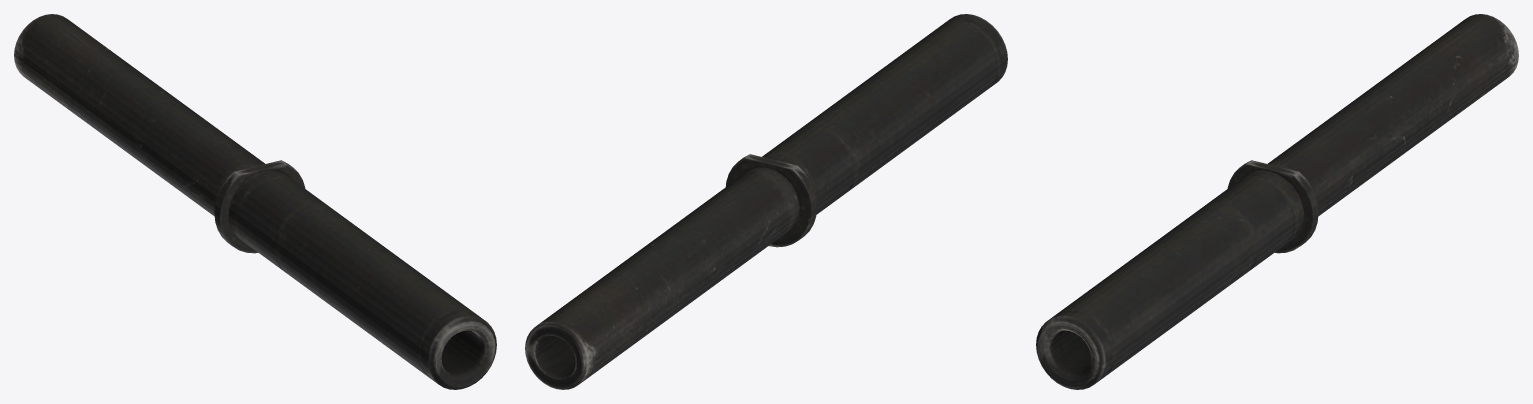
3 renders of one model, left to right at view 1: azimuth 30°, elevation 25°; view 2: azimuth 150°, elevation 25°; view 3: azimuth 330°, elevation 25°, orthographic.
Visible parts, largest first — view 1: TW_6686700a2b934a68630a7fe6_PZ_Import; view 2: TW_6686700a2b934a68630a7fe6_PZ_Import; view 3: TW_6686700a2b934a68630a7fe6_PZ_Import.
Part boxes in pixels (x1,y1,x2,y2): TW_6686700a2b934a68630a7fe6_PZ_Import: (14,14,496,389); TW_6686700a2b934a68630a7fe6_PZ_Import: (525,14,1007,389); TW_6686700a2b934a68630a7fe6_PZ_Import: (1036,14,1518,389).
Bounding box in the file's own units: 0.0116 × 0.0983 × 0.0106.
Materials: 1 (1 with a texture image).
